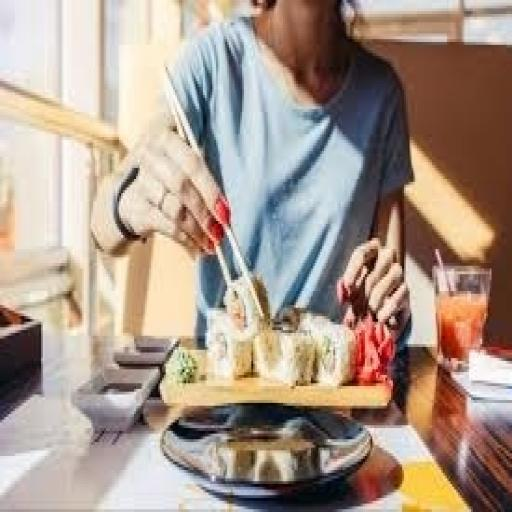eating: (89, 0, 415, 355)
